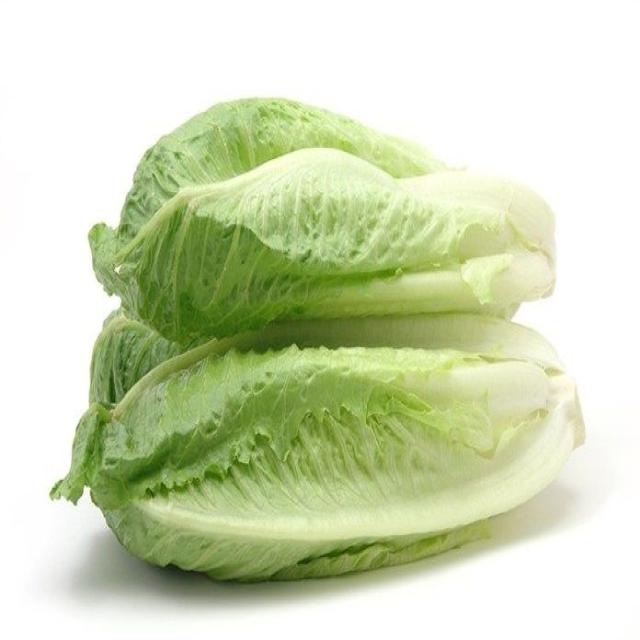lettuce: (52, 100, 583, 580), (53, 316, 582, 580)
